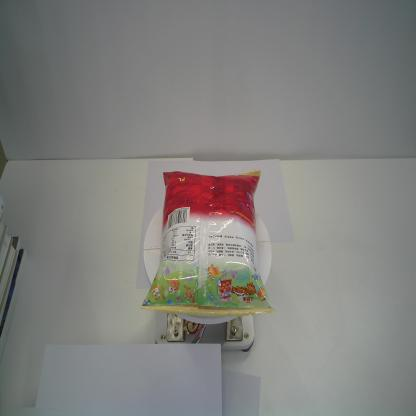Puffed Food: (139, 168, 275, 318)
